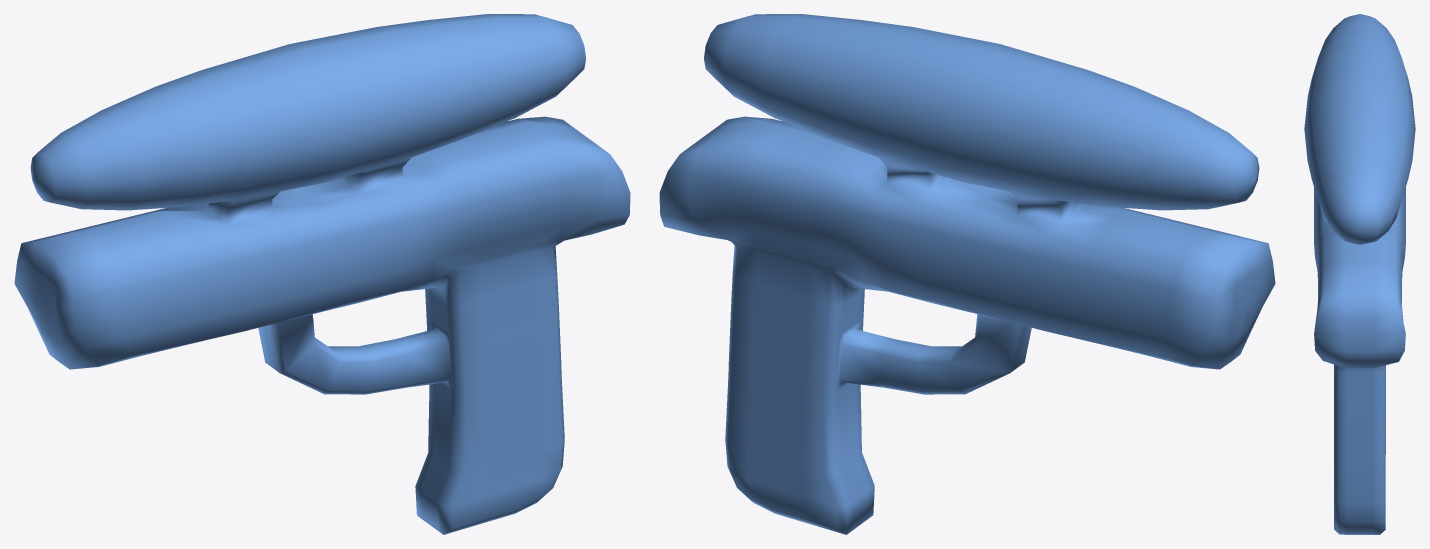
File: WaterGun.glb
3 views of the same model, side by side, from view 1: azimuth 30°, elevation 25°; view 2: azimuth 150°, elevation 25°; view 3: azimuth 270°, elevation 25° (orthographic). The views are drawn at different scales.
Visible parts, largest first — view 1: Cube; view 2: Cube; view 3: Cube.
Part boxes in pixels (<box>): Cube: <box>14,14,630,534</box>; Cube: <box>659,14,1275,534</box>; Cube: <box>1304,14,1415,534</box>.
Size of the model in its own units: 4.31 by 3.69 by 0.9734.
